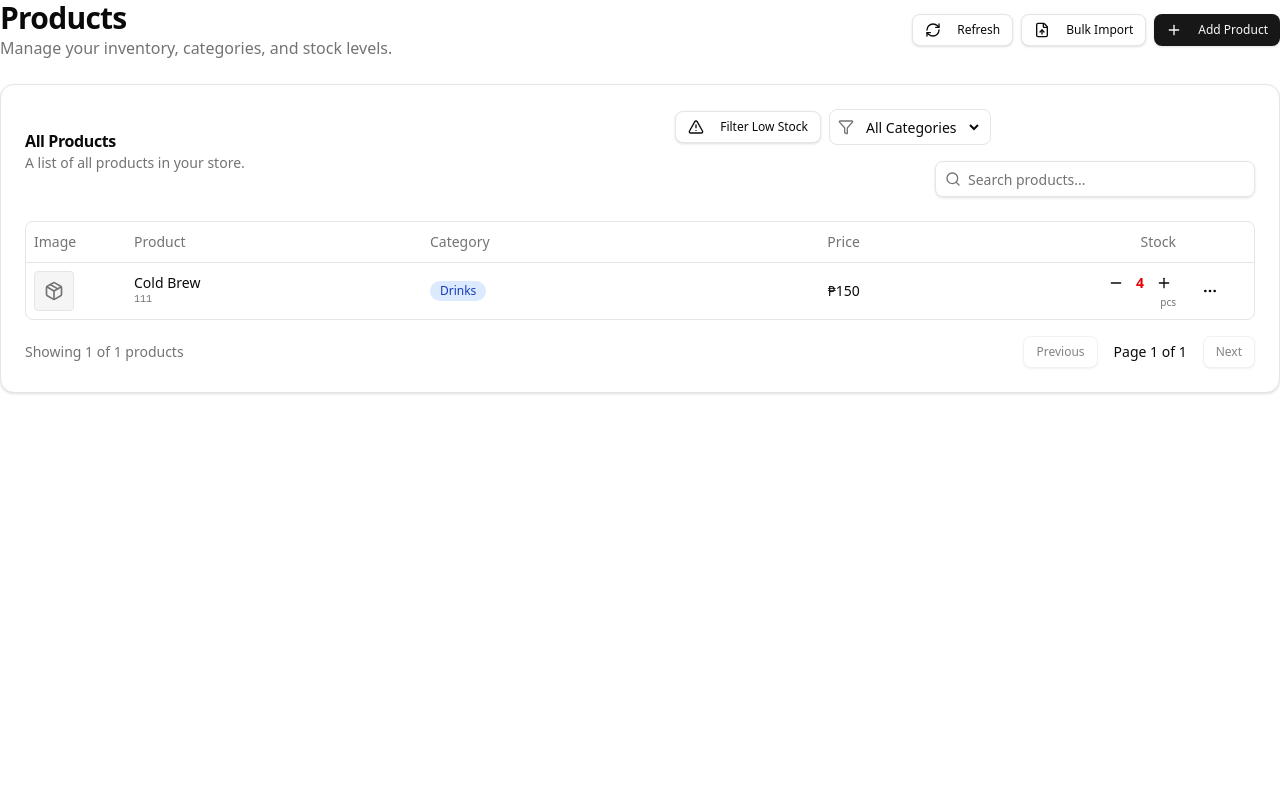
Test: Products edit sheet › falls back to the list row when the detail fetch fails
Press the mouse on the button named "Product actions": (1210, 290) 1192,272 -> 1228,308
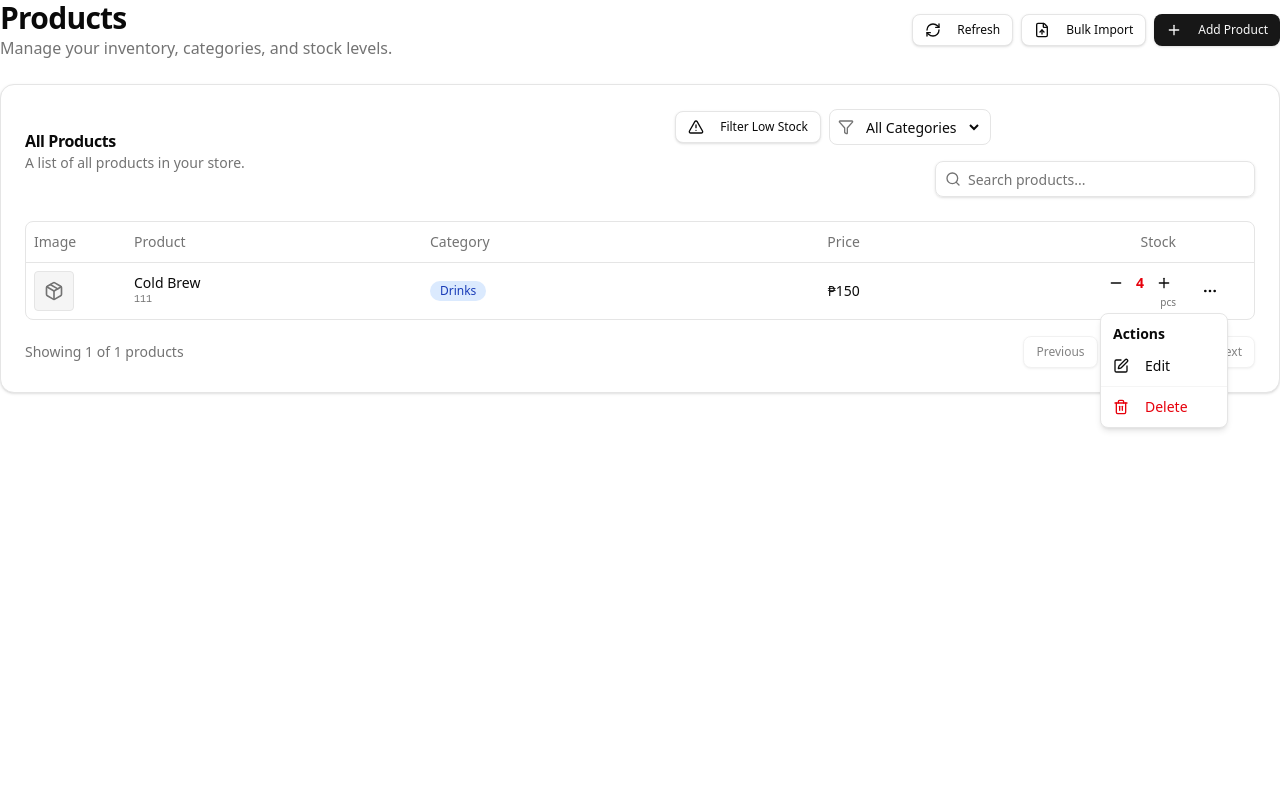
Click the menu item "Edit": (1121, 366) 1113,356 -> 1170,375
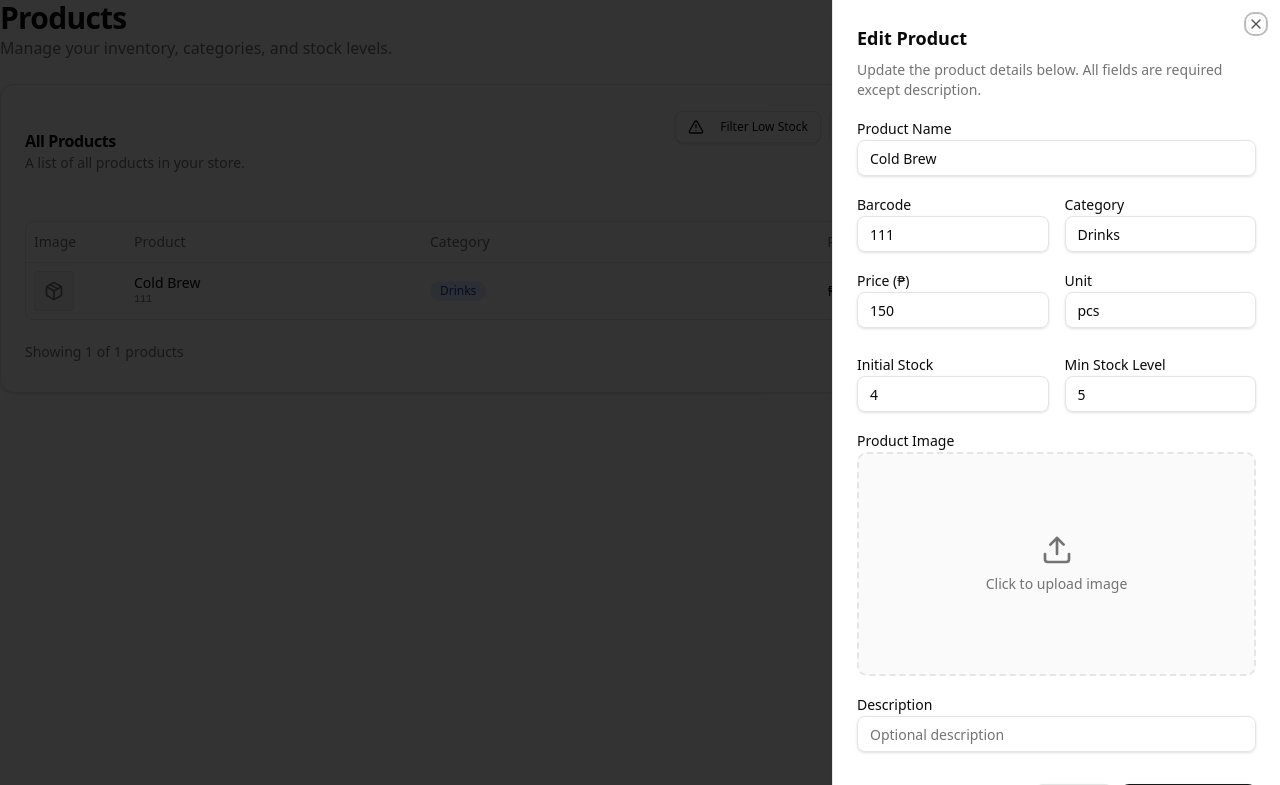
Expected: the field showing "Cold Brew" is shown, 857,140 -> 1256,176
